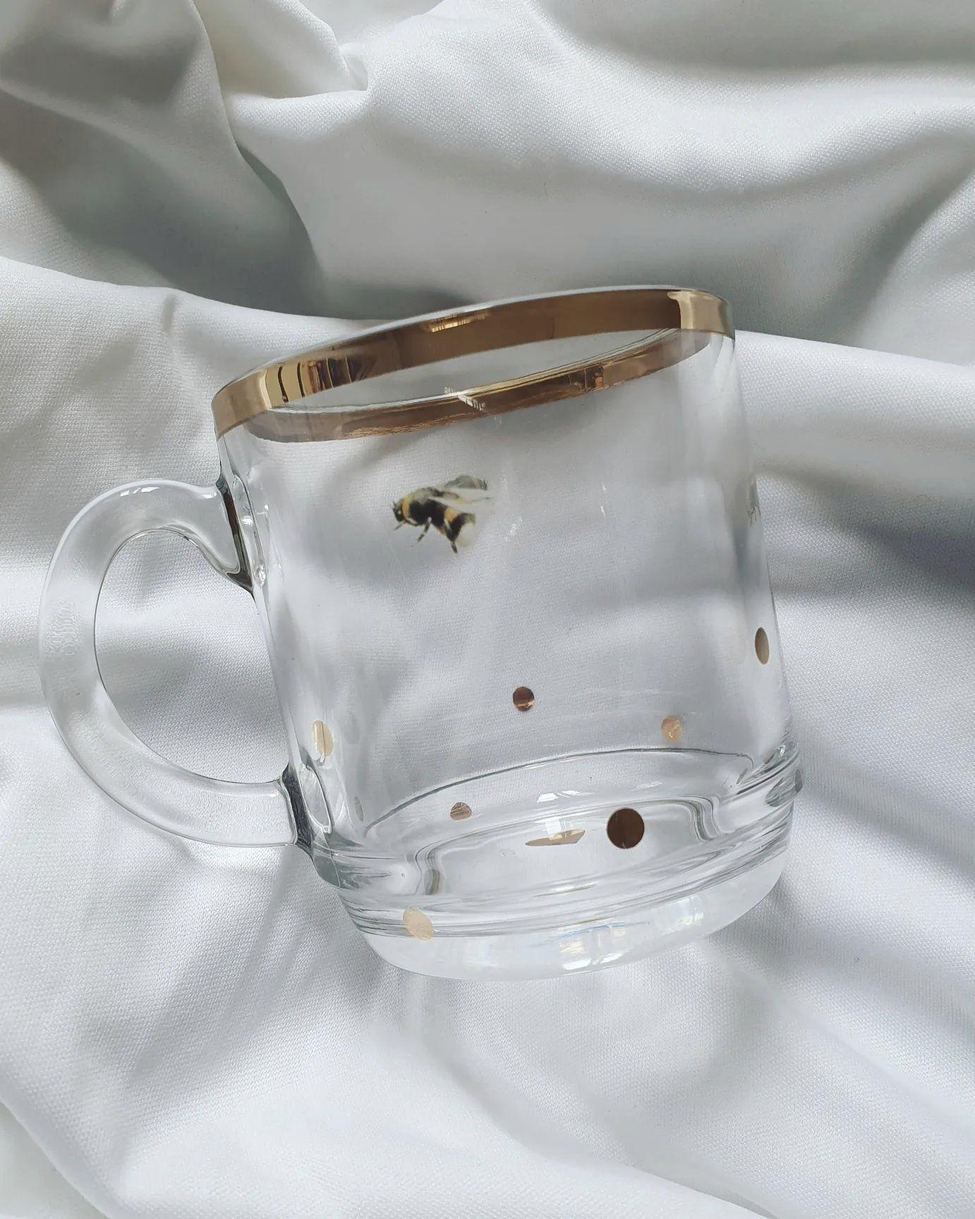glass-mug: (11, 269, 823, 985)
